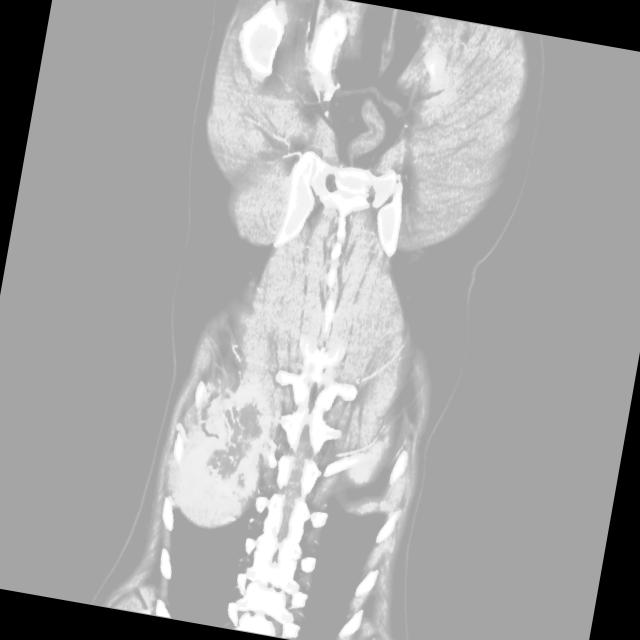TUMOR: (123, 214, 522, 547)
